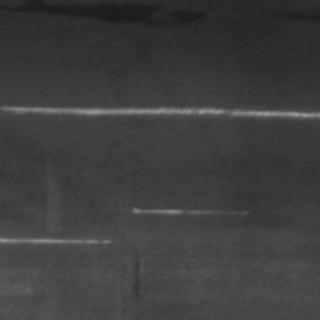inclusion: (125, 242, 144, 300)
scratches: (4, 96, 318, 126), (0, 228, 110, 248), (128, 200, 246, 214)
